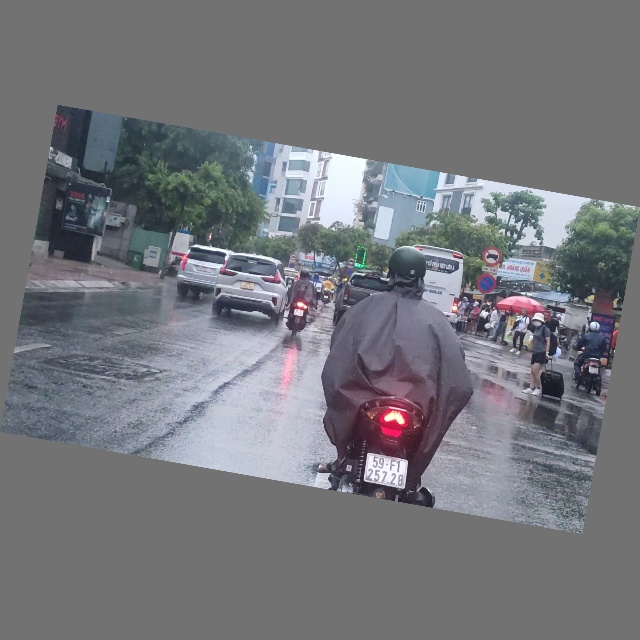P.106a*Xe tai: (480, 246, 503, 268), (347, 258, 355, 266)
P.131a: (475, 273, 498, 296), (345, 269, 354, 276)
